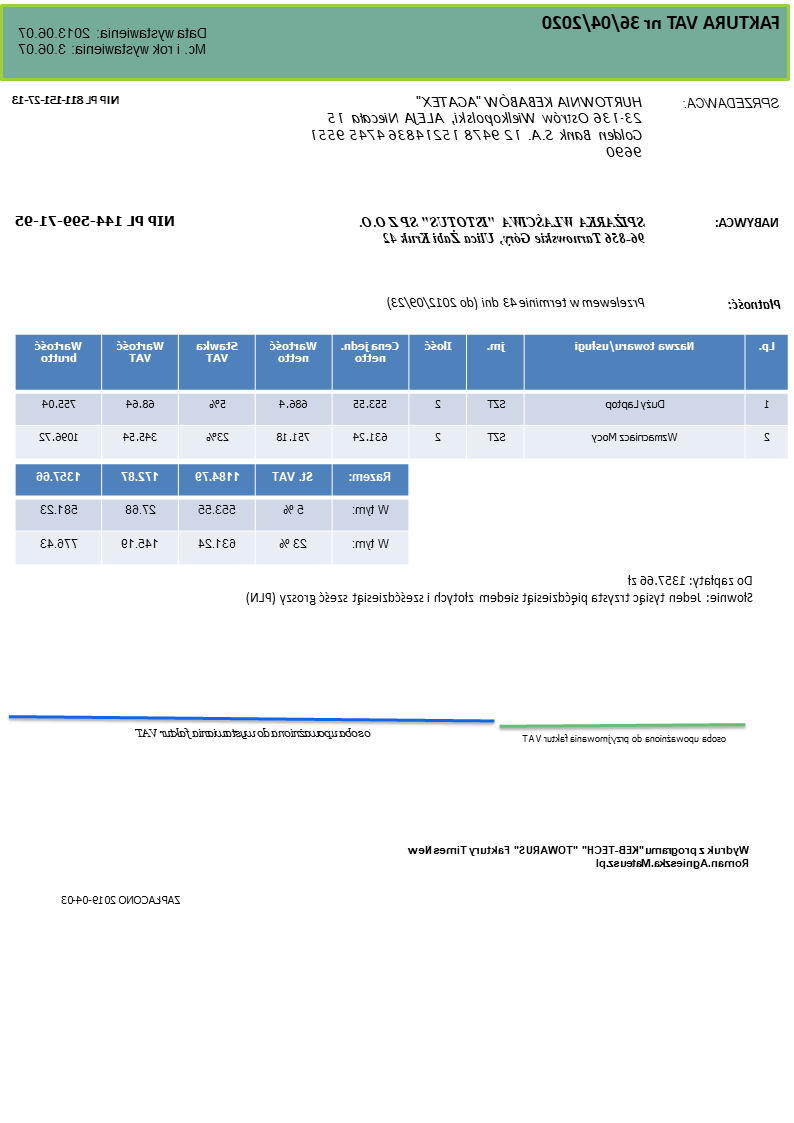Table: (14, 332, 790, 459), (15, 464, 410, 565)
TextBox: (309, 92, 646, 163), (244, 572, 756, 611), (357, 212, 648, 247), (405, 842, 751, 871), (15, 24, 211, 60), (540, 11, 783, 34), (386, 293, 649, 311), (133, 724, 374, 742), (520, 732, 728, 745), (15, 213, 178, 229), (59, 891, 184, 908), (683, 91, 782, 111), (10, 92, 123, 107), (712, 214, 782, 230), (726, 295, 784, 313)
